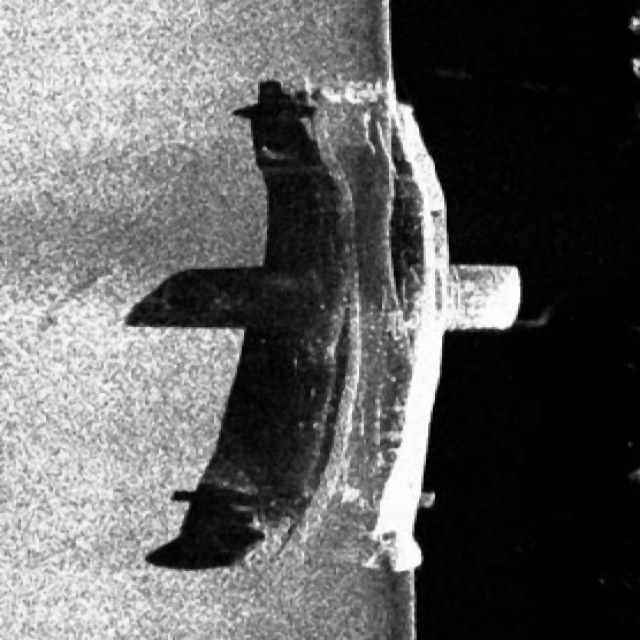Ship: (218, 68, 546, 584)
